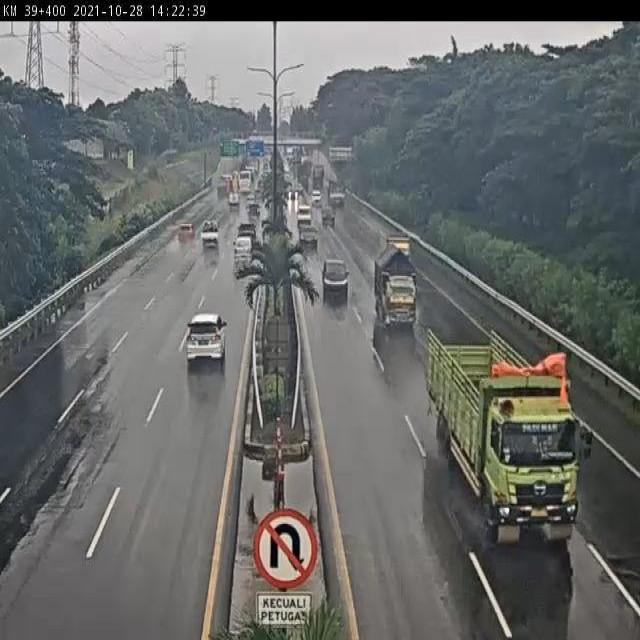car: (186, 312, 225, 365), (320, 257, 351, 299), (298, 221, 318, 251), (232, 236, 253, 259), (200, 220, 219, 243), (175, 220, 194, 241), (237, 222, 256, 242), (320, 207, 336, 228)
truck-m-: (374, 240, 421, 328)
truck-xl-: (426, 328, 579, 545)
